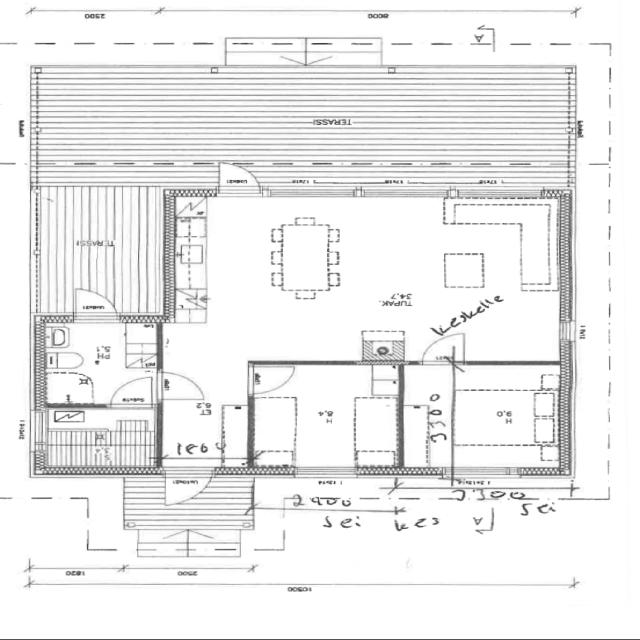door: (156, 462, 218, 508), (212, 159, 266, 199), (418, 332, 471, 371), (243, 362, 299, 398), (155, 370, 209, 404), (105, 373, 157, 407), (70, 287, 120, 322)
window: (464, 482, 562, 501), (391, 477, 453, 498), (360, 187, 446, 201), (290, 463, 360, 480), (270, 188, 358, 200), (554, 314, 582, 347)
zone: (159, 196, 506, 362), (249, 361, 402, 473), (419, 362, 564, 478), (36, 320, 158, 406), (33, 404, 158, 476)
